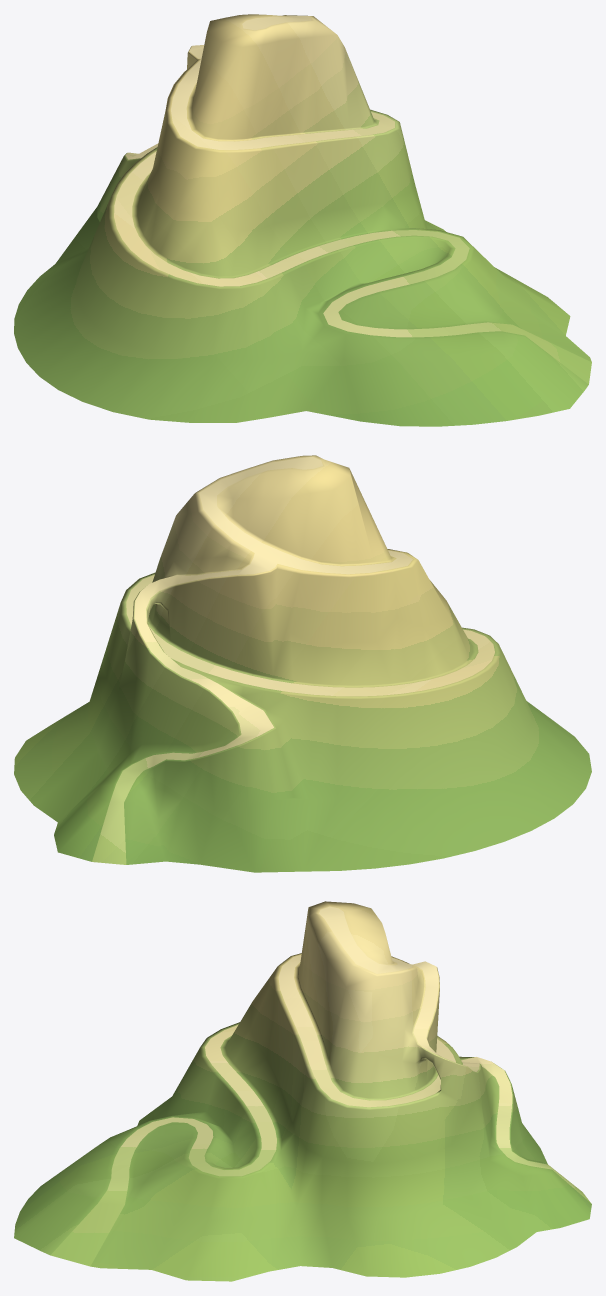
File: model_island_03.fbx
The picture shows the model from 3 angles, top to bottom: view 1: azimuth 30°, elevation 25°; view 2: azimuth 150°, elevation 25°; view 3: azimuth 270°, elevation 25°; orthographic projection. The views are drawn at different scales.
Visible parts, largest first — view 1: extrudedSurface4; view 2: extrudedSurface4; view 3: extrudedSurface4.
Boxes of the visible parts, box(x1,y1,x2,y2) form: extrudedSurface4: box(14, 14, 591, 426); extrudedSurface4: box(14, 455, 591, 872); extrudedSurface4: box(14, 901, 591, 1281).
Bounding box in the file's own units: 433 × 260 × 515.
